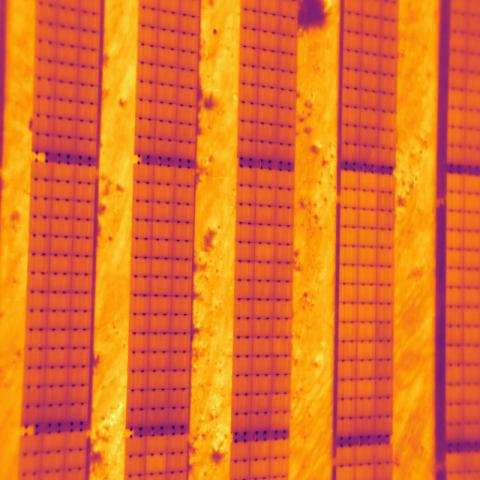fault: (145, 455, 167, 474)
